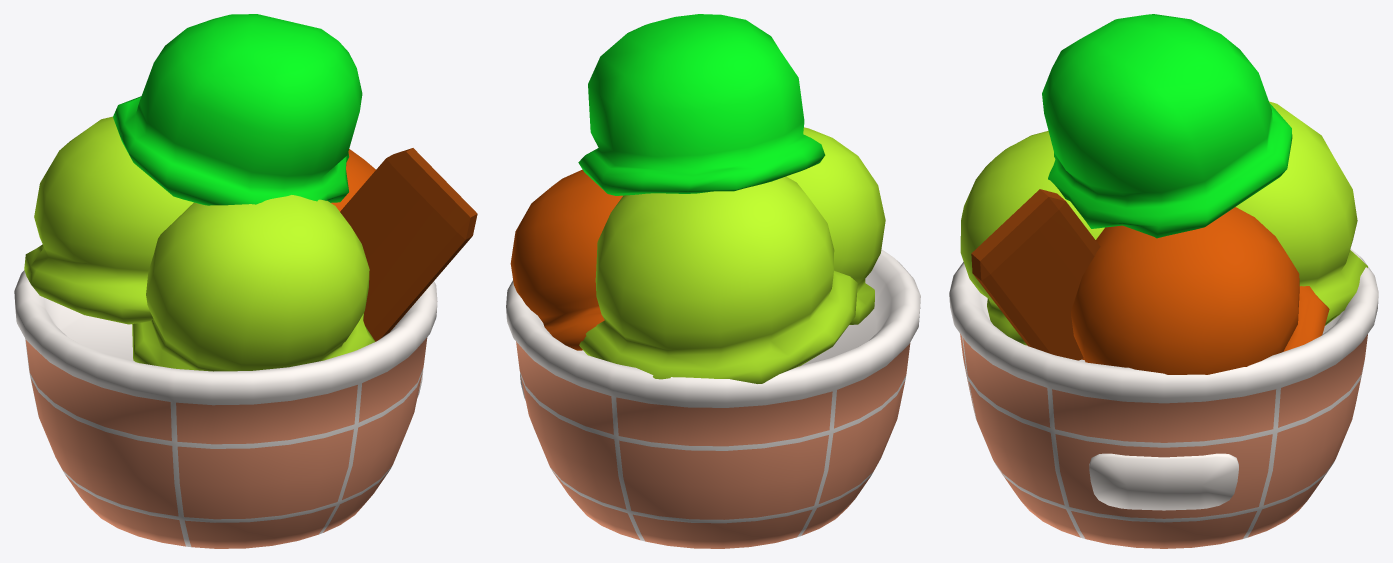
Rendered from IceCream_0001_0019.fbx.
The picture shows the model from 3 angles, left to right: view 1: azimuth 30°, elevation 25°; view 2: azimuth 150°, elevation 25°; view 3: azimuth 270°, elevation 25°; orthographic projection. The views are drawn at different scales.
Parts seen in each view (by area): view 1: Ice_0001_0019; view 2: Ice_0001_0019; view 3: Ice_0001_0019.
Part boxes in pixels (box(x1,y1,x2,y2)): Ice_0001_0019: box(14, 14, 477, 548); Ice_0001_0019: box(506, 14, 920, 548); Ice_0001_0019: box(949, 14, 1378, 548).
Bounding box in the file's own units: 0.1329 × 0.1595 × 0.1328.
1 material, 1 textured.
